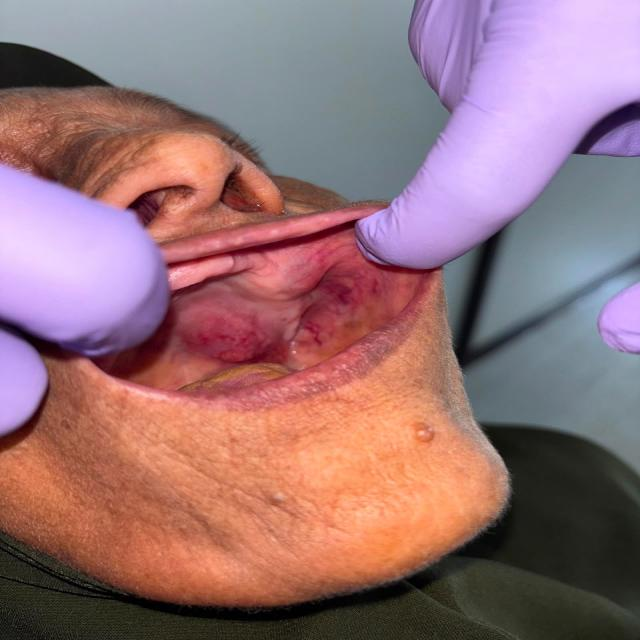cancer-detection: (156, 295, 287, 368)
processing_area: (95, 241, 412, 399)
